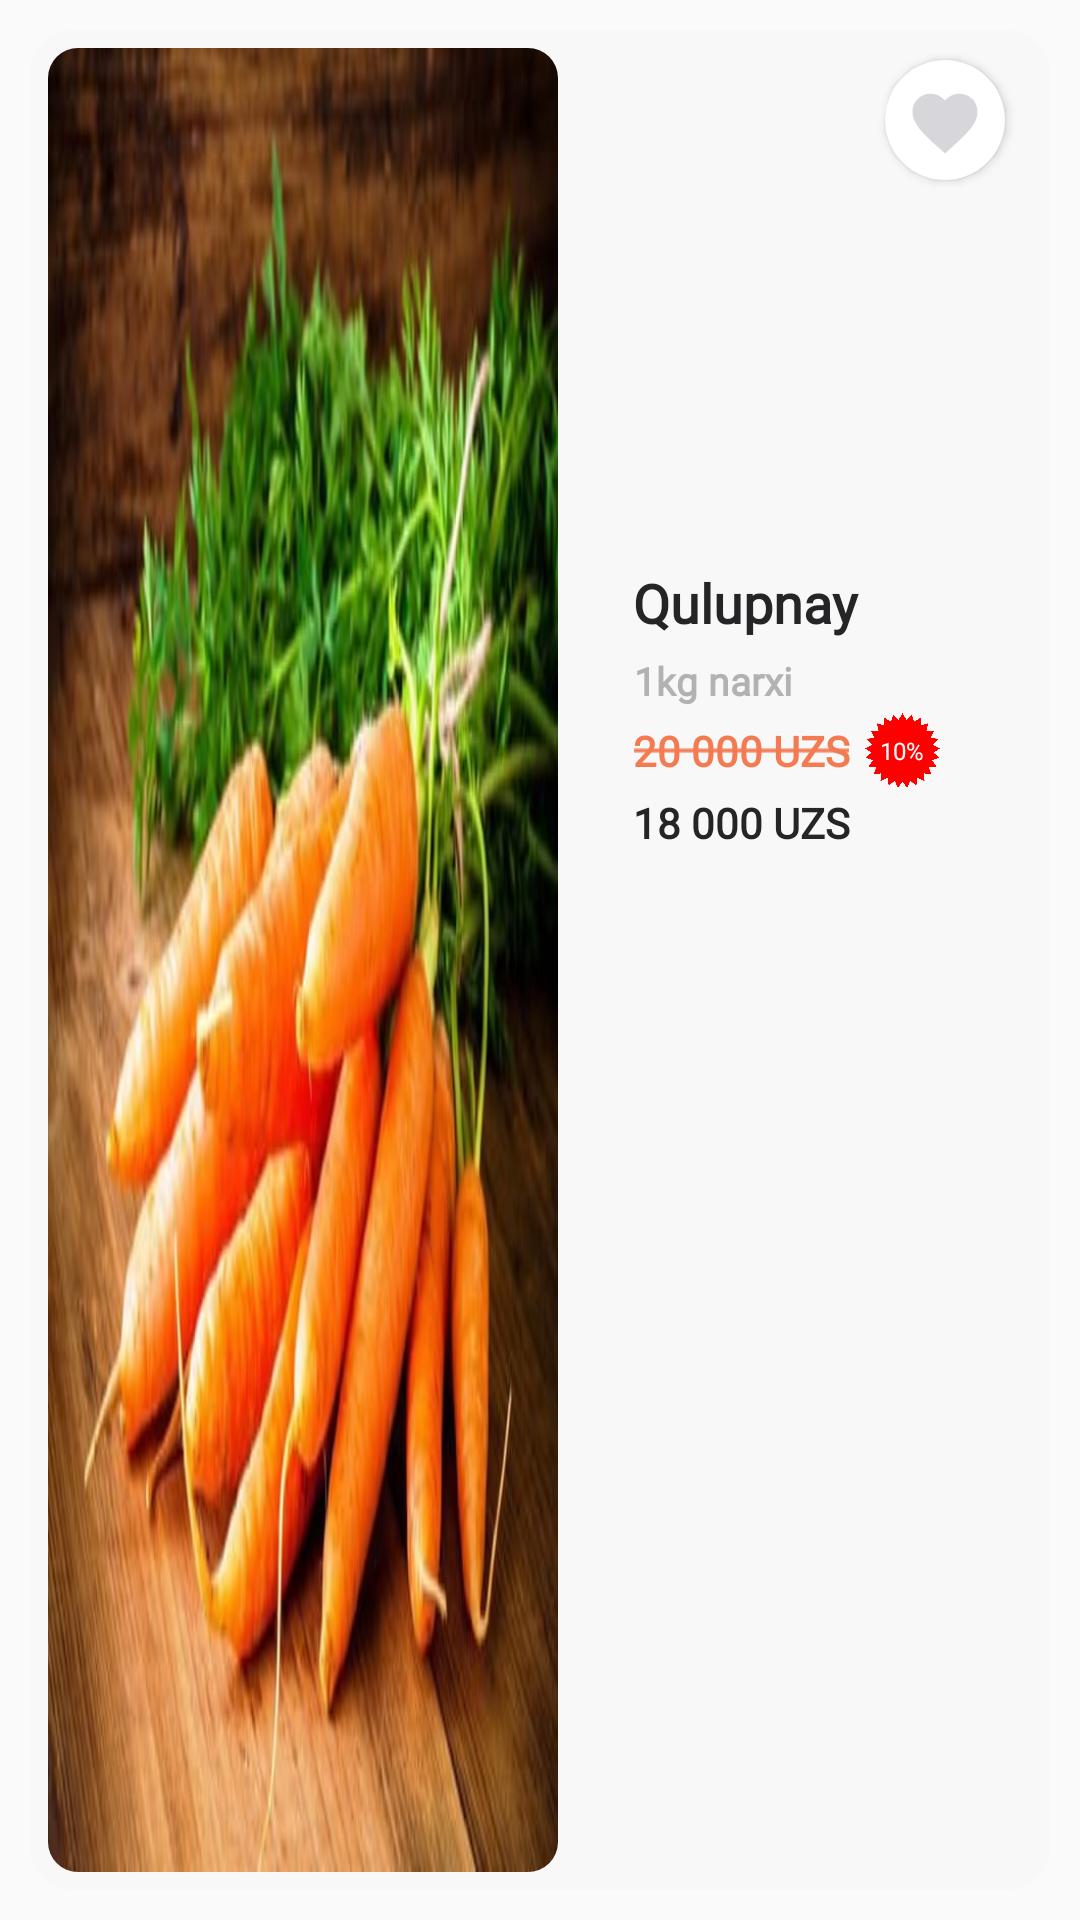

Named icons in this screenshot (1080 x 1920) and their bounding boxes, BBox(x1, y1, x2, y2):
favorite: BBox(913, 94, 977, 153)
